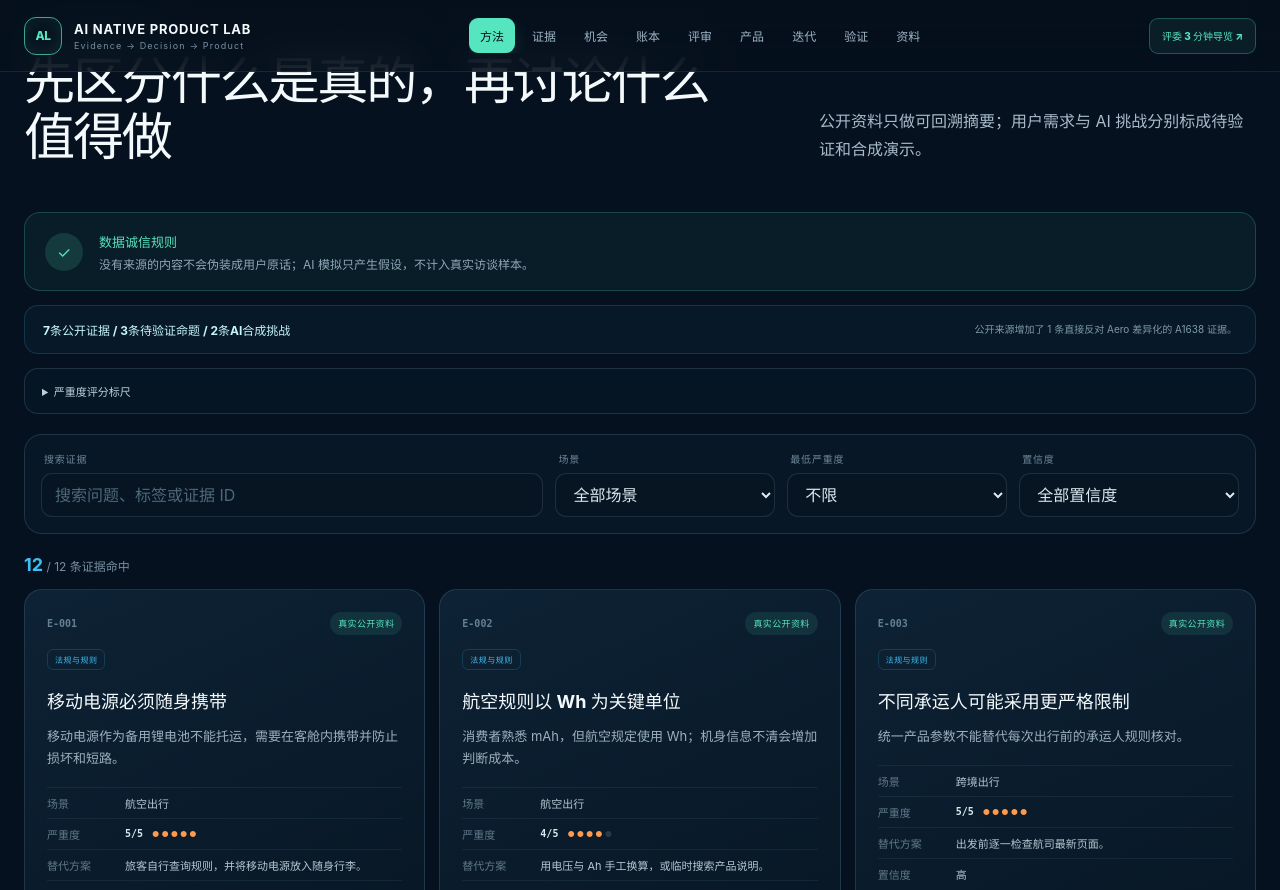
product lab application › filters evidence by keyword
(page scrolled)
Type "伸缩线" into the search field labelled "搜索证据" at (292, 495), box [41,473,544,517]
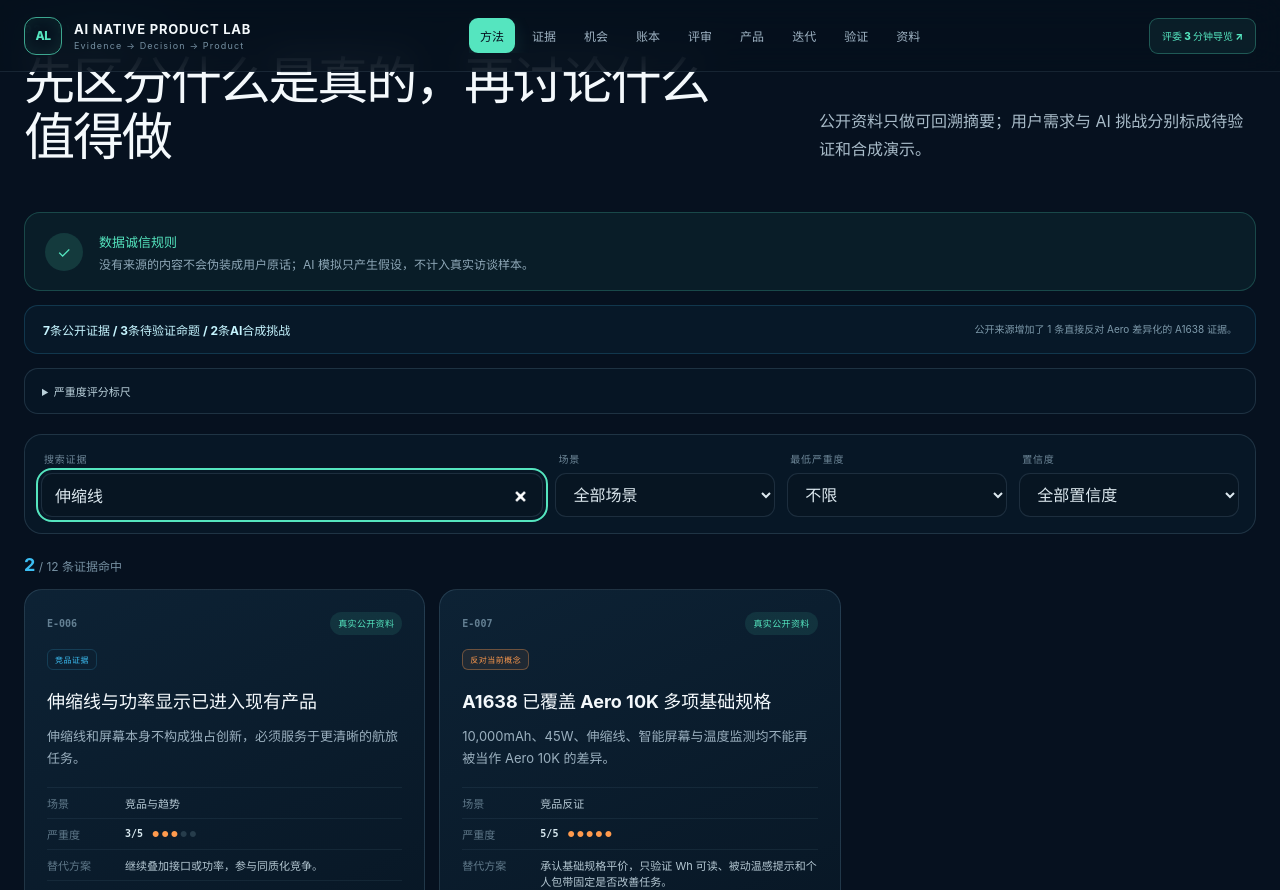
Expected: the heading "伸缩线与功率显示已进入现有产品" is shown, [47,691,317,712]
Expected: the heading "移动电源必须随身携带" is gone
